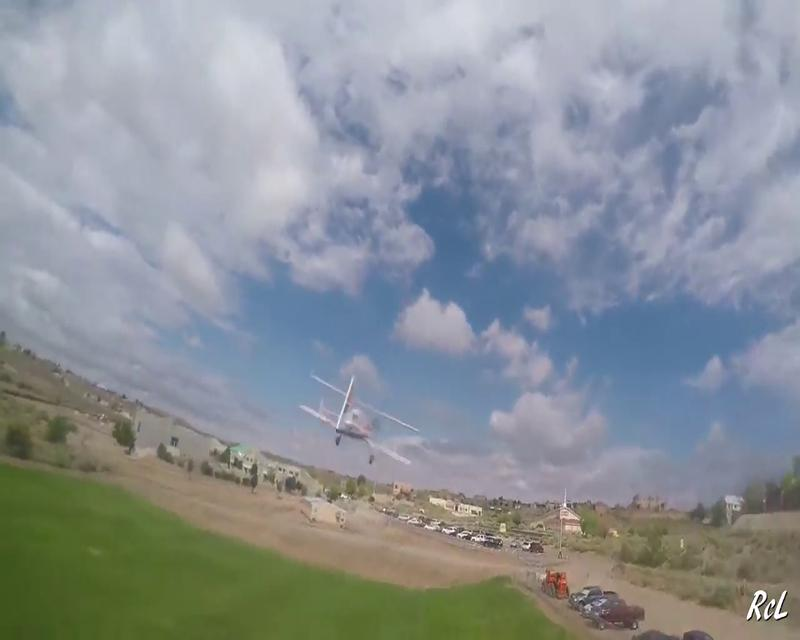UAV: (297, 372, 419, 465)
